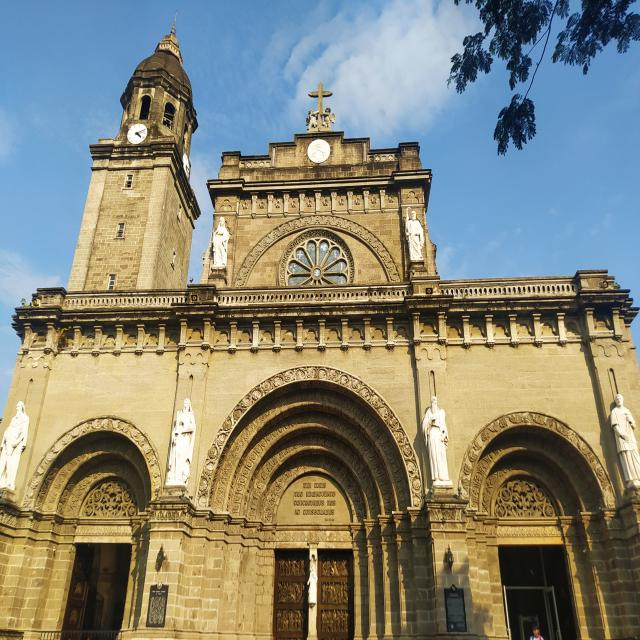Manila Cathedral: (0, 28, 640, 640)
